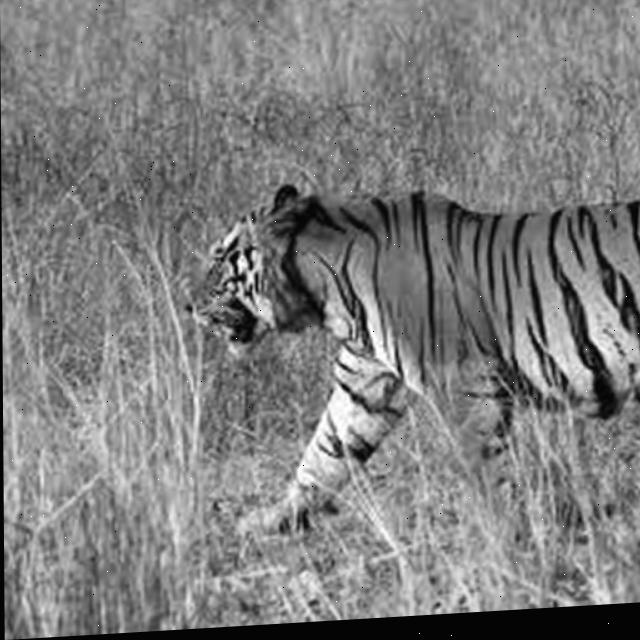Tiger: (181, 159, 640, 567)
